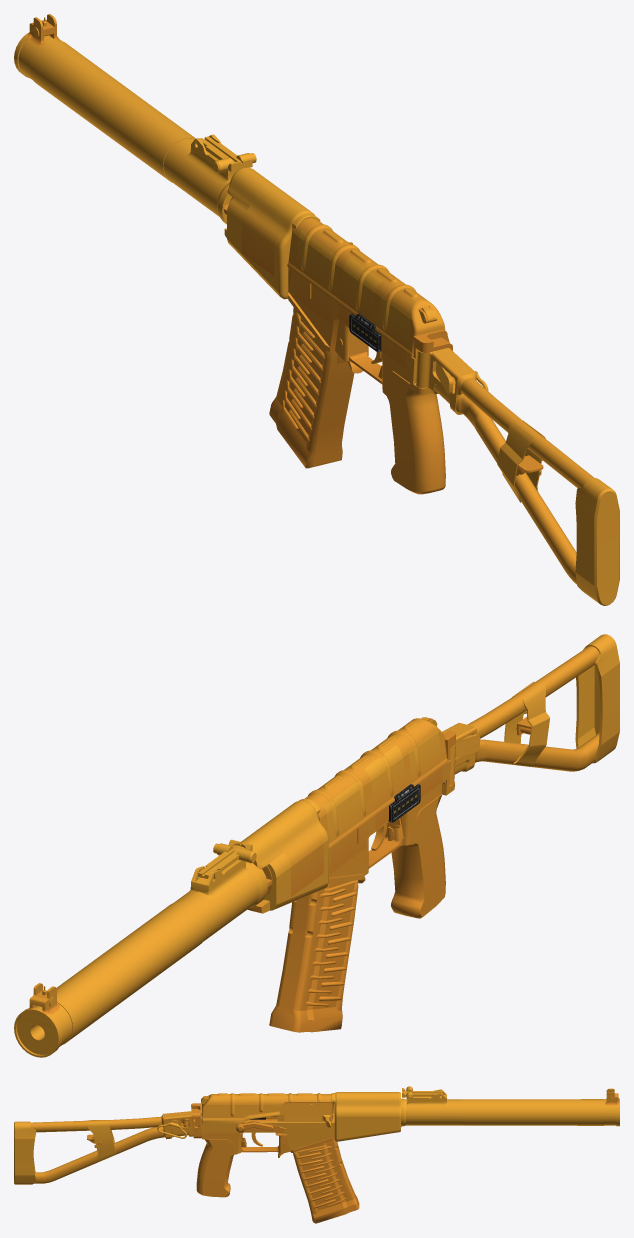
The model's file is val.glb.
3 views of the same model, one above another, from view 1: azimuth 30°, elevation 25°; view 2: azimuth 150°, elevation 25°; view 3: azimuth 270°, elevation 25° (orthographic). The views are drawn at different scales.
Visible parts, largest first — view 1: LOD_Template.001, Magazine1.001, Sticker2, Sticker1, Sticker3, Sticker4; view 2: LOD_Template.001, Magazine1.001, Sticker2, Sticker1, Sticker3, Sticker4, StatTrack.003; view 3: LOD_Template.001, Magazine1.001, Gunlock1.001.
Boxes of the visible parts, x1,y1,x2,y2 form: LOD_Template.001: [14, 14, 619, 605]; Magazine1.001: [269, 307, 354, 468]; Sticker2: [294, 229, 338, 324]; Sticker1: [241, 190, 289, 276]; Sticker3: [338, 257, 382, 325]; Sticker4: [376, 295, 411, 368]; LOD_Template.001: [14, 634, 619, 1057]; Magazine1.001: [269, 880, 358, 1032]; Sticker2: [323, 779, 367, 874]; Sticker1: [275, 810, 323, 896]; Sticker3: [363, 745, 406, 829]; Sticker4: [408, 730, 443, 797]; StatTrack.003: [388, 784, 420, 822]; LOD_Template.001: [14, 1086, 619, 1197]; Magazine1.001: [293, 1119, 359, 1223]; Gunlock1.001: [277, 1103, 332, 1127].
Size of the model in its own units: 0.0628 by 0.2128 by 0.91.
6 materials, 6 textured.
